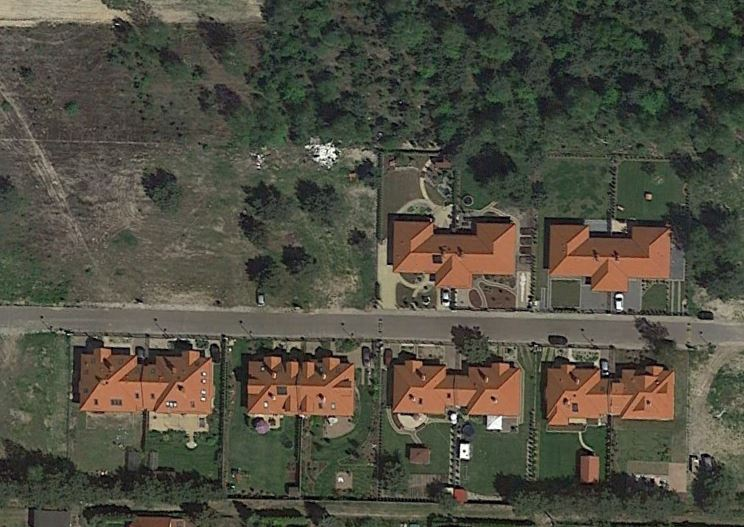terrace house: (74, 344, 215, 419), (542, 357, 678, 429), (546, 222, 673, 298), (389, 217, 520, 289), (388, 355, 526, 421), (244, 352, 356, 421)
